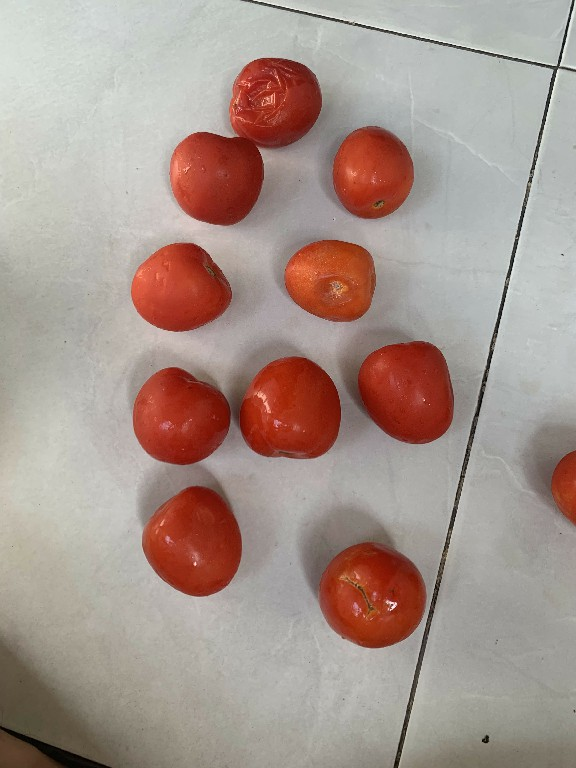NG: (316, 538, 436, 650), (222, 48, 326, 149), (282, 229, 384, 326)
OK: (131, 481, 248, 592), (237, 348, 342, 471), (356, 333, 463, 450), (124, 231, 242, 335), (122, 364, 231, 471), (161, 125, 264, 226), (331, 122, 422, 224)
